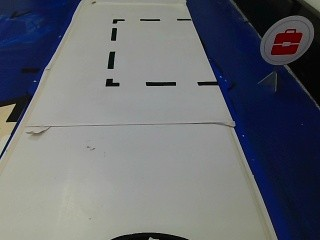company: (258, 17, 314, 65)
